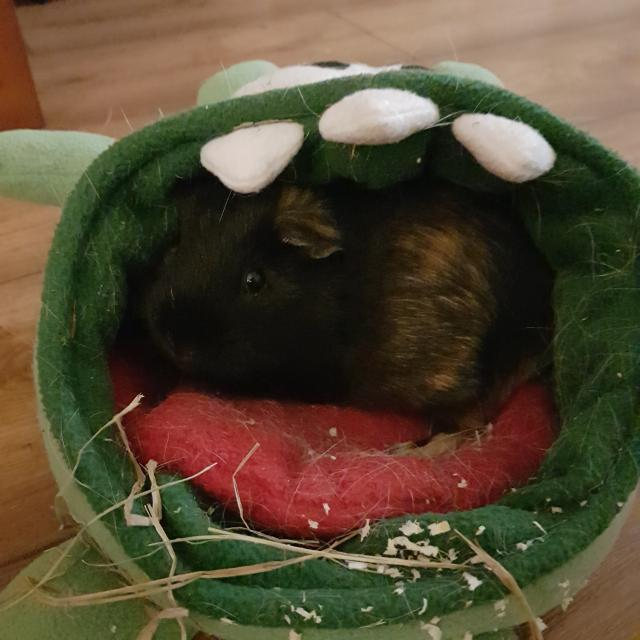guinea pig: (126, 167, 558, 461)
